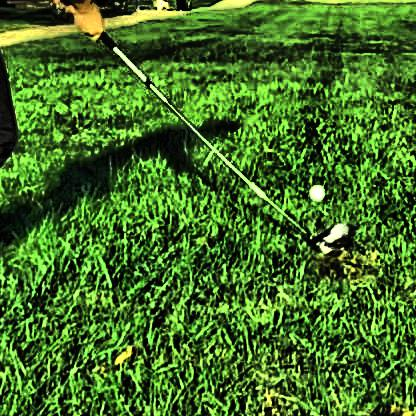golfball: (304, 180, 323, 199)
